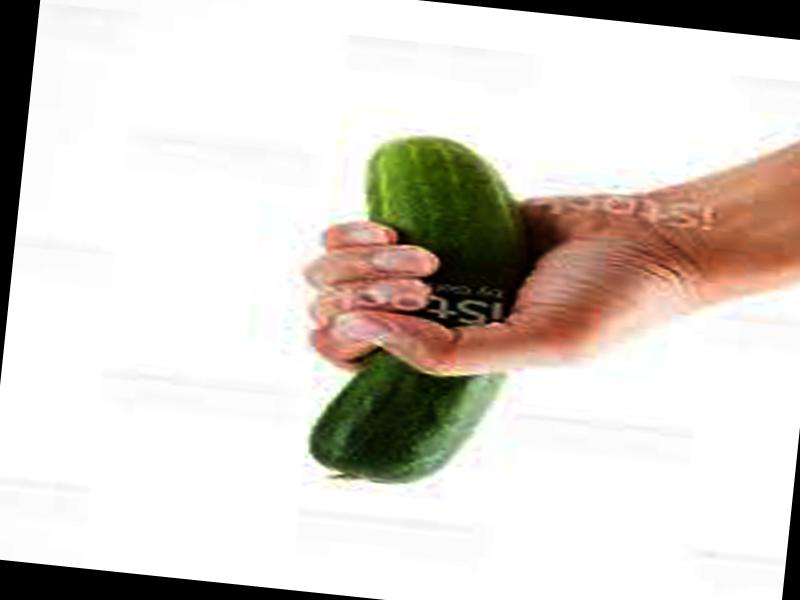Cucumber: (302, 129, 542, 495)
